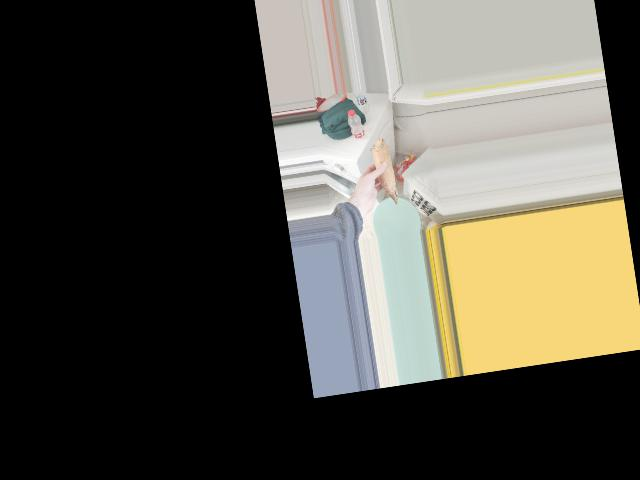sweet_potato: (367, 134, 396, 203)
